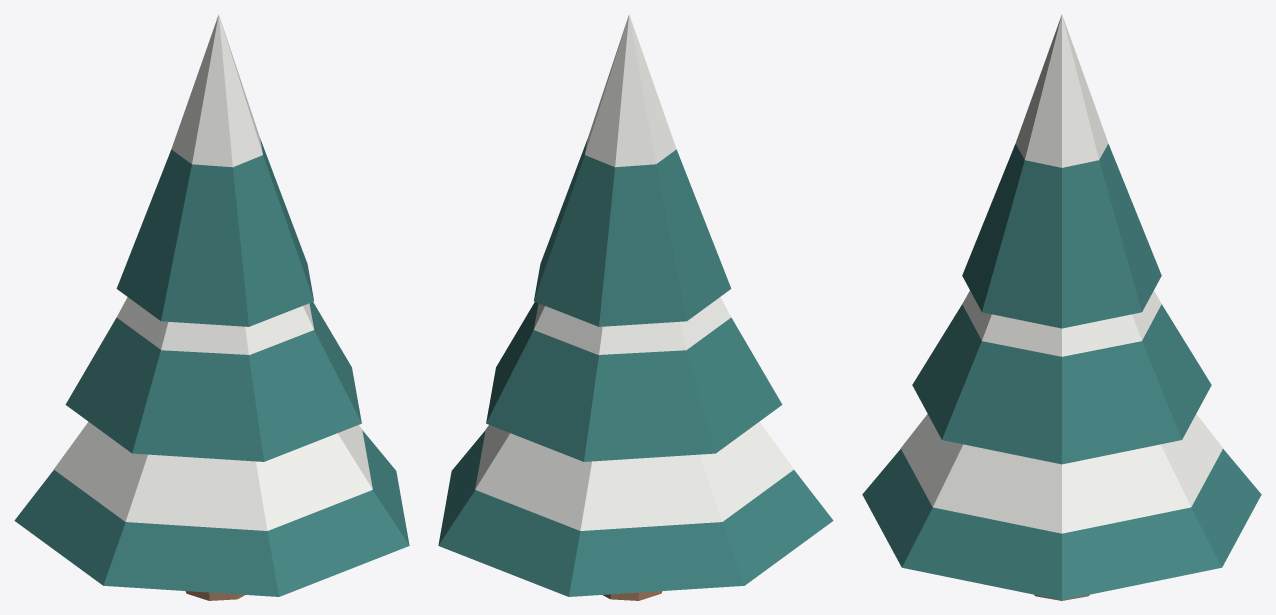
Rendered from spruce_s.glb.
3 views of the same model, side by side, from view 1: azimuth 30°, elevation 25°; view 2: azimuth 150°, elevation 25°; view 3: azimuth 270°, elevation 25° (orthographic).
Parts seen in each view (by area): view 1: young-snow-spruce-spruce, young-snow-spruce-snow; view 2: young-snow-spruce-spruce, young-snow-spruce-snow; view 3: young-snow-spruce-spruce, young-snow-spruce-snow.
Part boxes in pixels (<box>): young-snow-spruce-spruce: <box>14,139,409,596</box>; young-snow-spruce-snow: <box>54,14,372,530</box>; young-snow-spruce-spruce: <box>438,139,833,596</box>; young-snow-spruce-snow: <box>475,14,793,530</box>; young-snow-spruce-spruce: <box>862,144,1261,600</box>; young-snow-spruce-snow: <box>901,14,1222,533</box>.
Bounding box in the file's own units: 0.9886 × 1.6 × 1.01.
